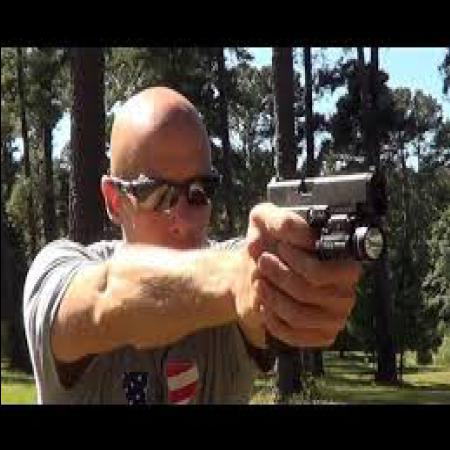Pistol: (260, 162, 386, 360)
